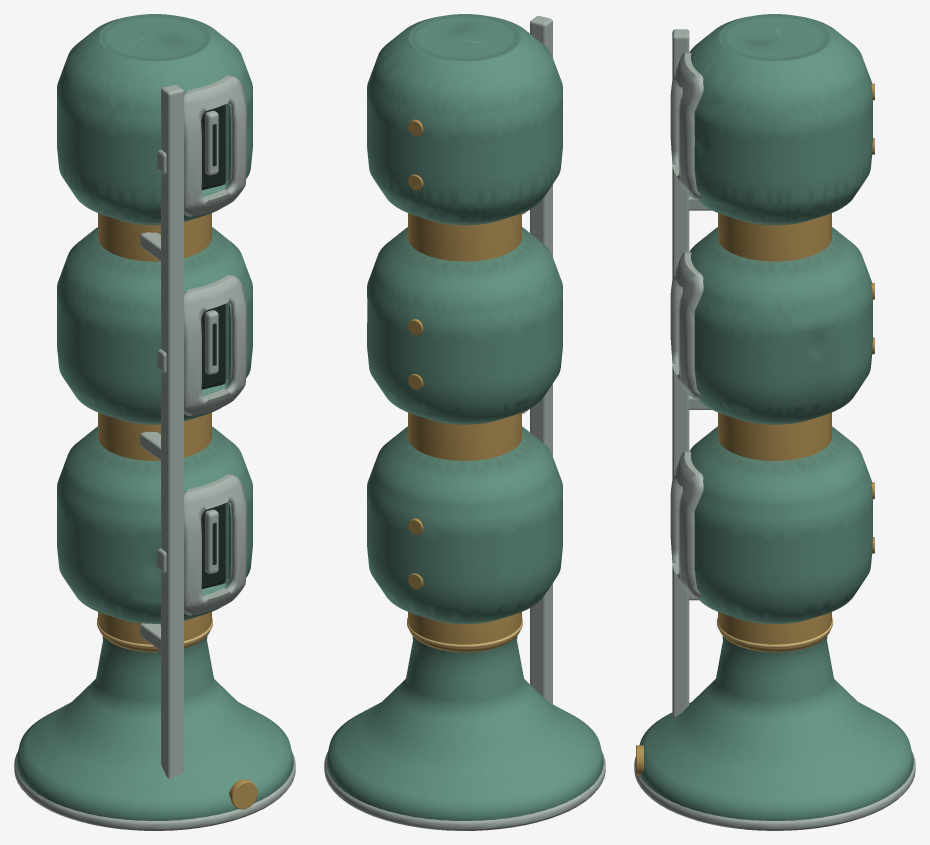
3 views of the same model, side by side, from view 1: azimuth 30°, elevation 25°; view 2: azimuth 150°, elevation 25°; view 3: azimuth 270°, elevation 25° (orthographic).
Visible parts, largest first — view 1: RI03 flared mounting pedestal, RI03 renewed process vessel 2, RI03 renewed process vessel 1, RI03 renewed process vessel 0, RI03 continuous flat equipment spine, RI03 broad pale service frame 0, RI03 broad pale service frame 2, RI03 broad pale service frame 1, RI03 ground mounting rim, RI03 solid brass interstage neck 1, RI03 solid brass interstage neck 2, RI03 solid brass interstage neck 0 (+7 smaller); view 2: RI03 renewed process vessel 2, RI03 flared mounting pedestal, RI03 renewed process vessel 1, RI03 renewed process vessel 0, RI03 continuous flat equipment spine, RI03 solid brass interstage neck 1, RI03 solid brass interstage neck 2, RI03 ground mounting rim, RI03 solid brass interstage neck 0; view 3: RI03 flared mounting pedestal, RI03 renewed process vessel 2, RI03 renewed process vessel 1, RI03 renewed process vessel 0, RI03 continuous flat equipment spine, RI03 solid brass interstage neck 1, RI03 solid brass interstage neck 2, RI03 broad pale service frame 2, RI03 broad pale service frame 1, RI03 broad pale service frame 0, RI03 ground mounting rim, RI03 solid brass interstage neck 0.
Part boxes in pixels (x1,y1,x2,y2): RI03 flared mounting pedestal: (16, 636, 293, 820); RI03 renewed process vessel 2: (57, 14, 252, 225); RI03 renewed process vessel 1: (57, 227, 252, 424); RI03 renewed process vessel 0: (57, 426, 252, 623); RI03 continuous flat equipment spine: (161, 84, 183, 778); RI03 broad pale service frame 0: (184, 474, 246, 615); RI03 broad pale service frame 2: (184, 75, 246, 216); RI03 broad pale service frame 1: (184, 274, 246, 416); RI03 ground mounting rim: (14, 752, 295, 830); RI03 solid brass interstage neck 1: (98, 412, 211, 460); RI03 solid brass interstage neck 2: (98, 213, 211, 261); RI03 solid brass interstage neck 0: (98, 612, 211, 652); RI03 renewed process vessel 2: (367, 14, 562, 225); RI03 flared mounting pedestal: (326, 636, 603, 820); RI03 renewed process vessel 1: (367, 227, 562, 424); RI03 renewed process vessel 0: (367, 426, 562, 623); RI03 continuous flat equipment spine: (530, 16, 552, 704); RI03 solid brass interstage neck 1: (408, 412, 521, 460); RI03 solid brass interstage neck 2: (408, 213, 521, 261); RI03 ground mounting rim: (324, 752, 605, 830); RI03 solid brass interstage neck 0: (408, 612, 521, 652); RI03 flared mounting pedestal: (639, 636, 913, 820); RI03 renewed process vessel 2: (689, 14, 872, 225); RI03 renewed process vessel 1: (689, 227, 872, 424); RI03 renewed process vessel 0: (689, 426, 872, 623); RI03 continuous flat equipment spine: (672, 29, 689, 718); RI03 solid brass interstage neck 1: (718, 412, 831, 460); RI03 solid brass interstage neck 2: (718, 213, 831, 261); RI03 broad pale service frame 2: (670, 52, 703, 199); RI03 broad pale service frame 1: (670, 252, 703, 398); RI03 broad pale service frame 0: (670, 451, 703, 597); RI03 ground mounting rim: (634, 752, 915, 830); RI03 solid brass interstage neck 0: (718, 612, 831, 652).
Bounding box in the file's own units: 1.41 × 4.1 × 1.41.
Materials: 7 (2 with a texture image).
